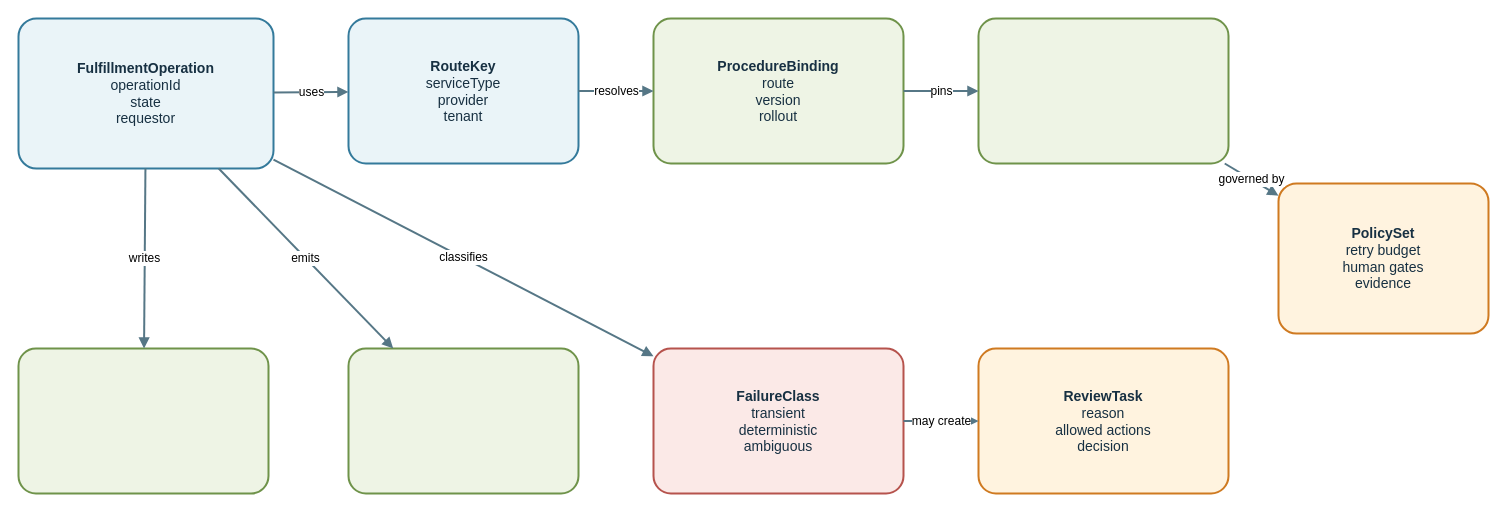
Image size: 1506x511. Some labels were removed from this diagram. Here are the shapes that lost their labels. From the top down, the centre of each, then its label:
At (1103,90): "ProcedureVersion steps requirements policy".
At (143,420): "Checkpoint stage state reference sequence".
At (463,420): "AuditEvent actor decision timestamp".
